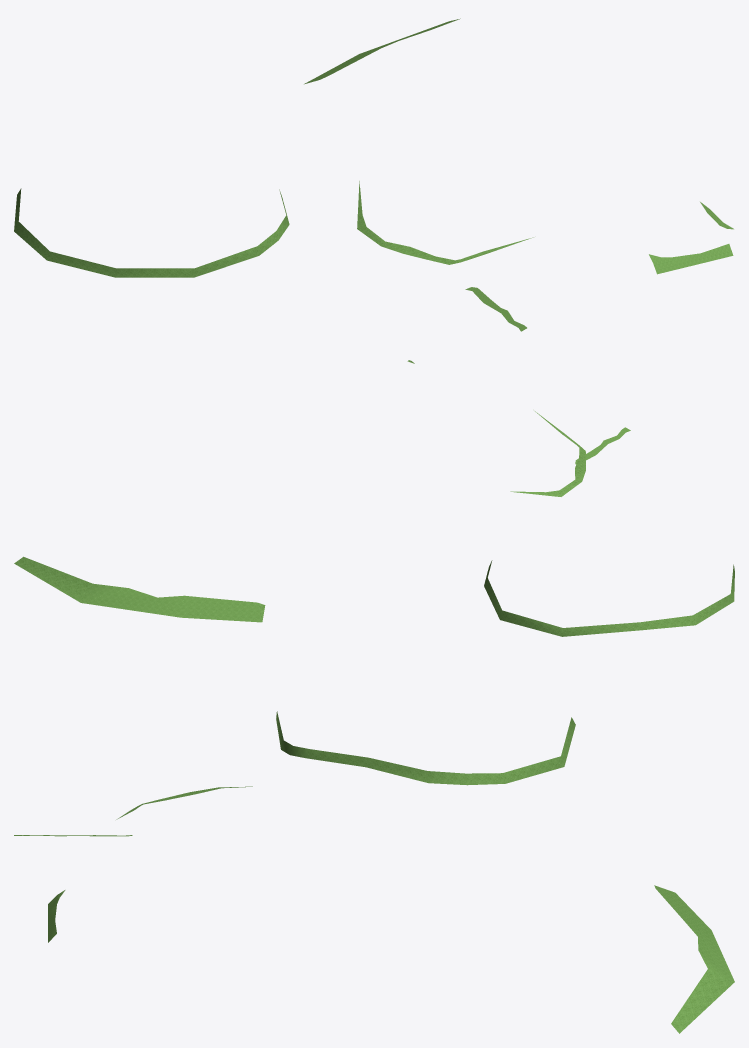
The model's file is kd_stage_1366d7_0_18.glb.
The picture shows the model from 3 angles, top to bottom: view 1: azimuth 30°, elevation 25°; view 2: azimuth 150°, elevation 25°; view 3: azimuth 270°, elevation 25°; orthographic projection. The views are drawn at different scales.
Visible parts, largest first — view 1: kd_stage_1366d7_0_18; view 2: kd_stage_1366d7_0_18; view 3: kd_stage_1366d7_0_18.
Part boxes in pixels (box(x1,y1,x2,y2)): kd_stage_1366d7_0_18: box(14, 18, 733, 331); kd_stage_1366d7_0_18: box(14, 360, 734, 636); kd_stage_1366d7_0_18: box(14, 711, 734, 1033).
Size of the model in its own units: 182 by 15.5 by 162.
1 material, 1 textured.
